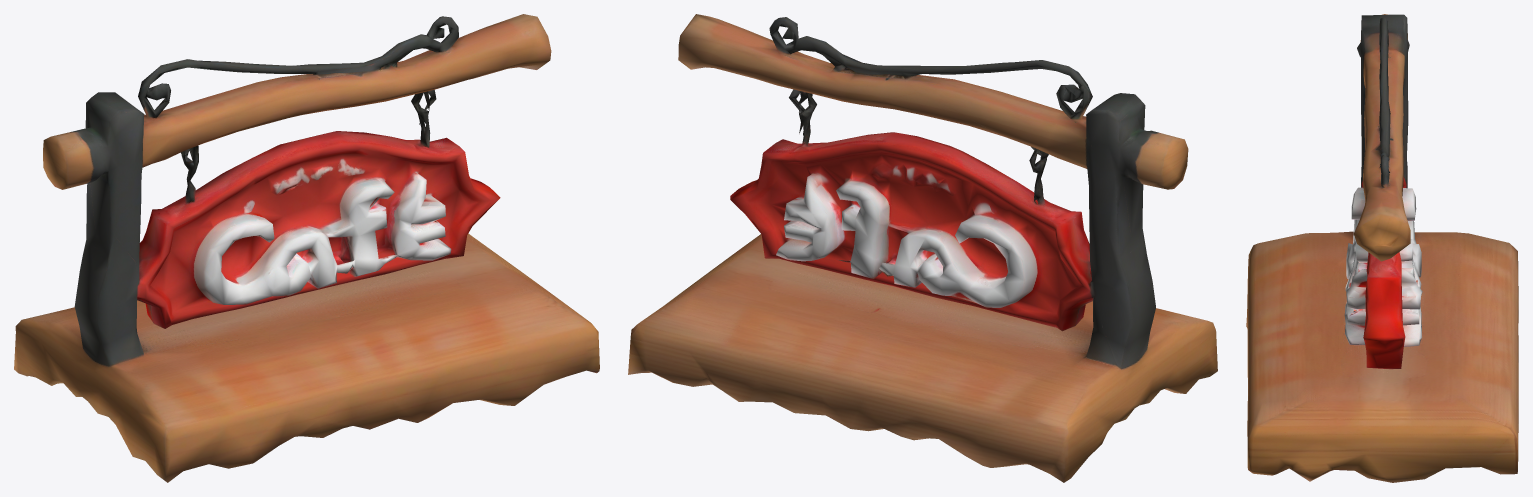
Rendered from bistro_france.glb.
3 views of the same model, side by side, from view 1: azimuth 30°, elevation 25°; view 2: azimuth 150°, elevation 25°; view 3: azimuth 270°, elevation 25° (orthographic). The views are drawn at different scales.
Size of the model in its own units: 2 by 1.4 by 1.11.
Materials: 1 (1 with a texture image).
